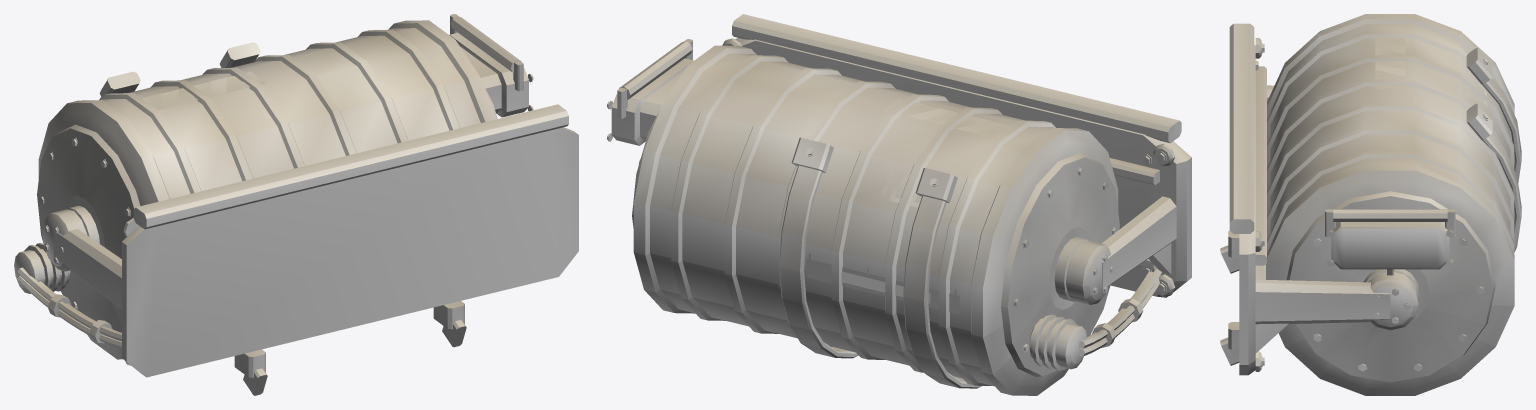
Rendered from ammo-drum-back-full.glb.
The picture shows the model from 3 angles, left to right: view 1: azimuth 30°, elevation 25°; view 2: azimuth 150°, elevation 25°; view 3: azimuth 270°, elevation 25°; orthographic projection. The views are drawn at different scales.
Visible parts, largest first — view 1: Body; view 2: Body; view 3: Body.
Boxes of the visible parts, left/top/right/bottom form: Body: left=14, top=14, right=578, bottom=395; Body: left=607, top=14, right=1191, bottom=395; Body: left=1220, top=14, right=1521, bottom=395.
Size of the model in its own units: 1.84 by 0.9391 by 1.11.
